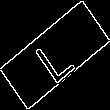L_NW: (30, 26, 80, 84)
